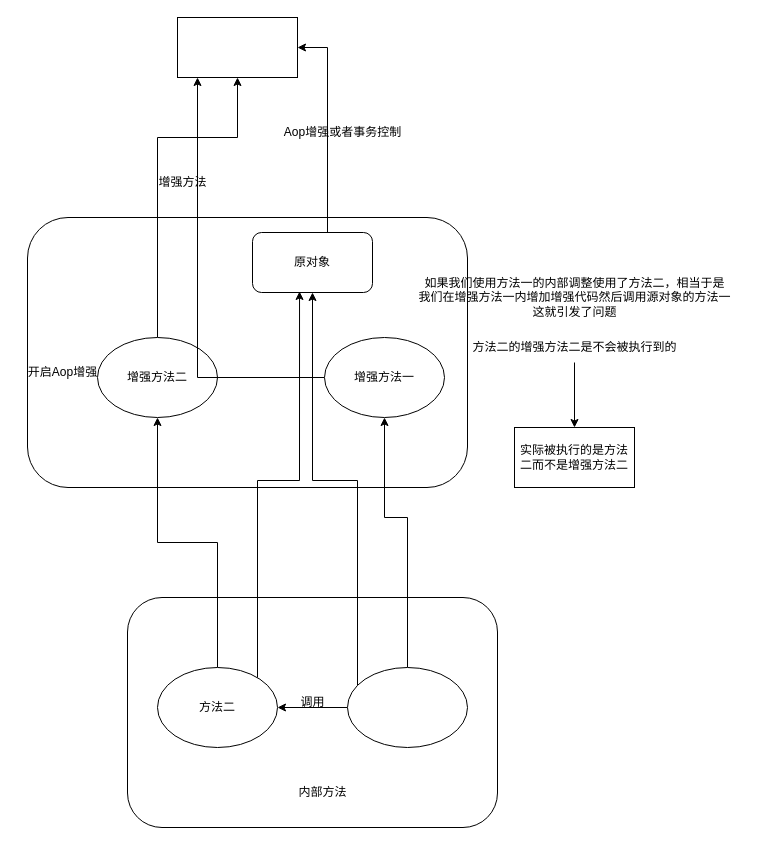
Image size: 761x845. Some labels were removed from this diagram. Here are the shapes that lost their labels. From the top down, the box of each, then its label:
(176, 16, 298, 78): 代理对象
(346, 666, 468, 748): 方法一
